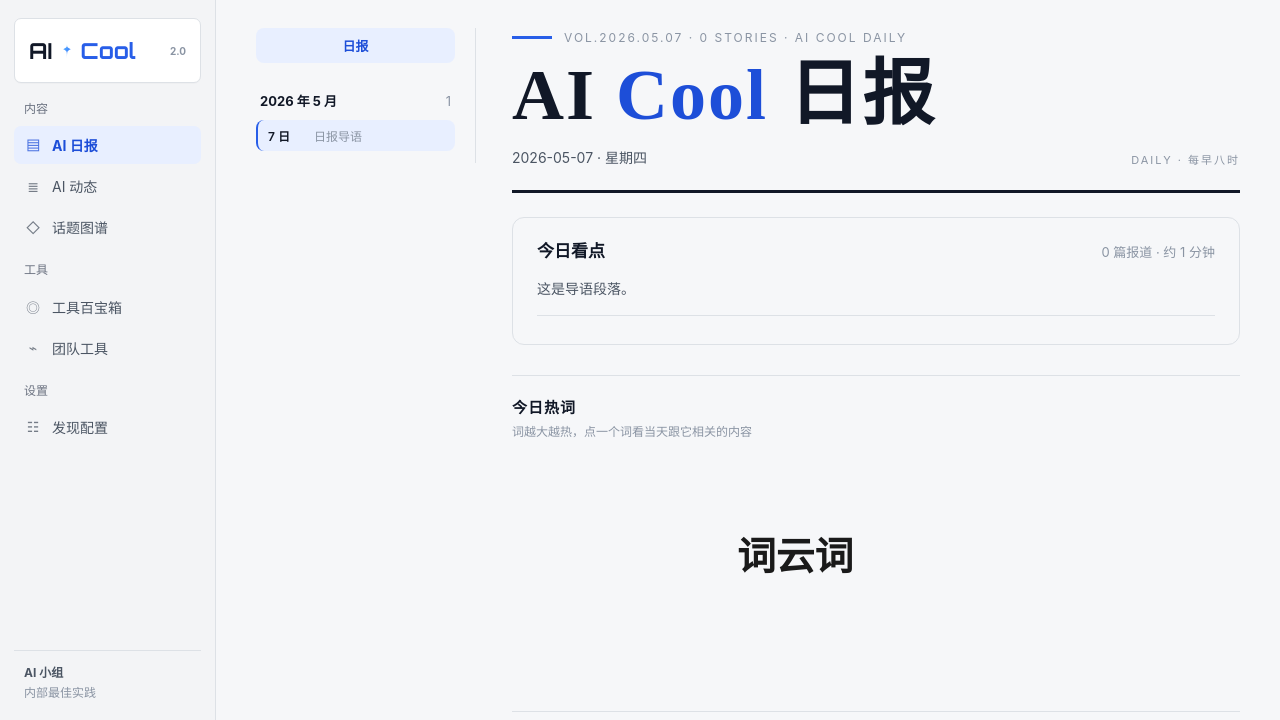
Scenario: renders the daily home with the word cloud by default, and switches views
The image size is (1280, 720).
Expected: the heading "今日热词" is shown, [512,398,576,417]
Expected: the text "日报导语" is shown, [314,129,362,144]
# AI 动态 → feed + hot-topics strip
Click the button "≣ AI 动态" at {"x": 108, "y": 186}, box [14,167,201,205]
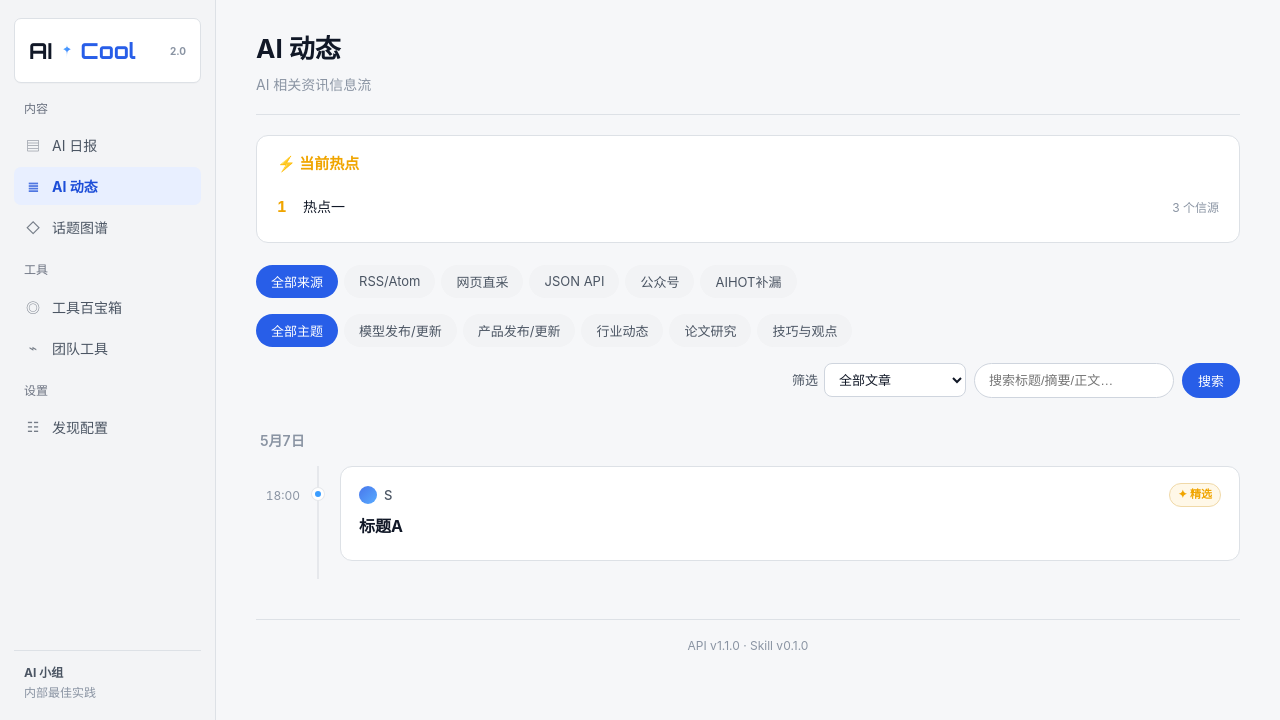
Result: the link "标题A" is shown at [359,516,403,536]
Result: the heading "⚡ 当前热点" is shown at [277,154,359,173]
Result: the link "热点一" is shown at [303,198,345,215]
# back to the daily home
Click the button "▤ AI 日报" at {"x": 108, "y": 145}, box [14,126,201,164]
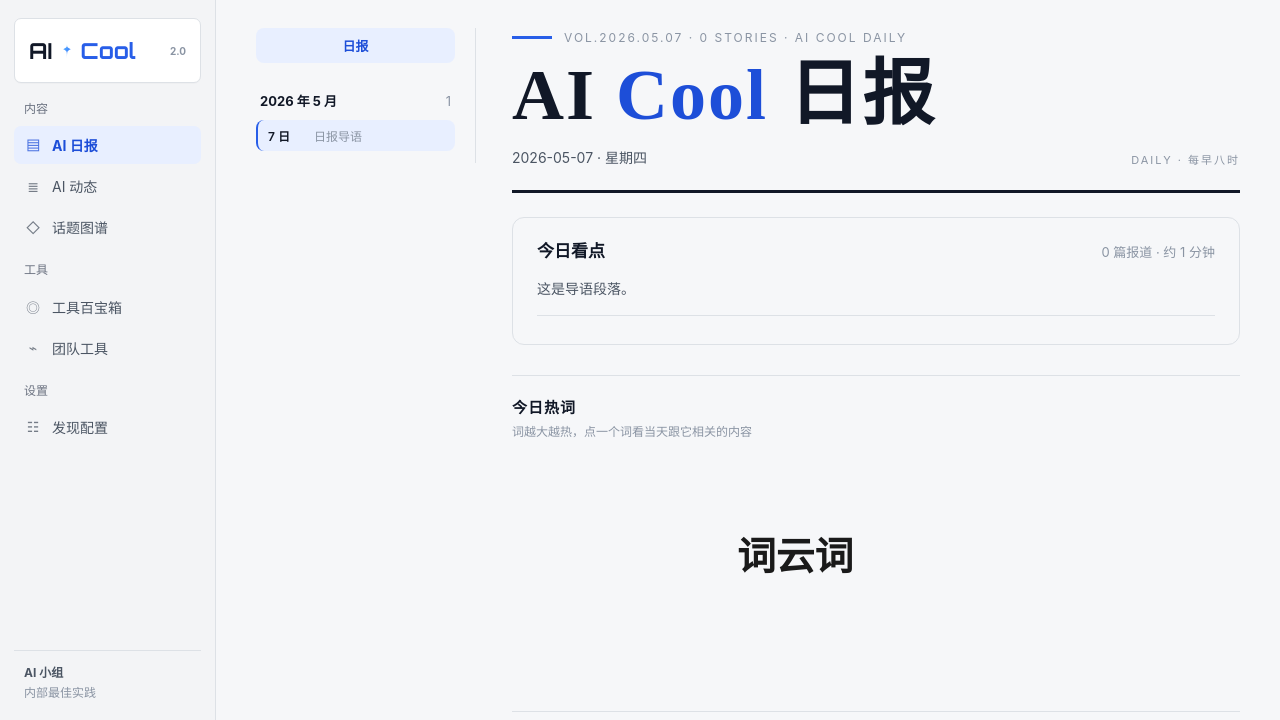
Result: the text "日报导语" is shown at [314,129,362,144]
Result: the link "标题A" is gone
